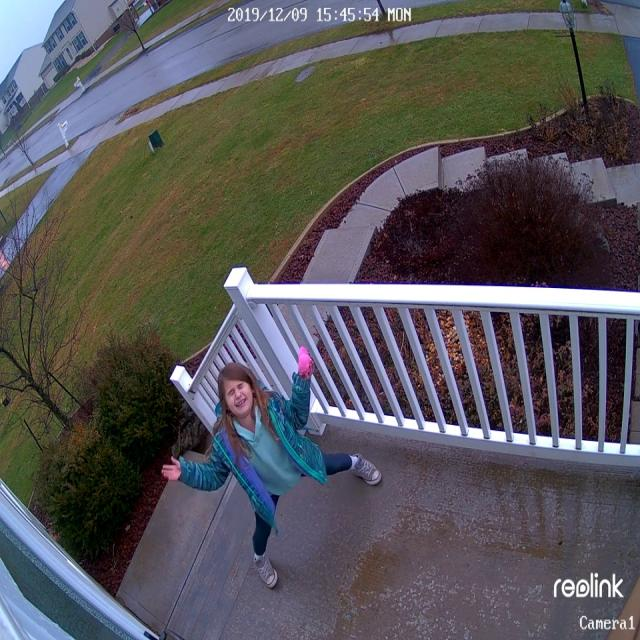child: (164, 352, 383, 590)
